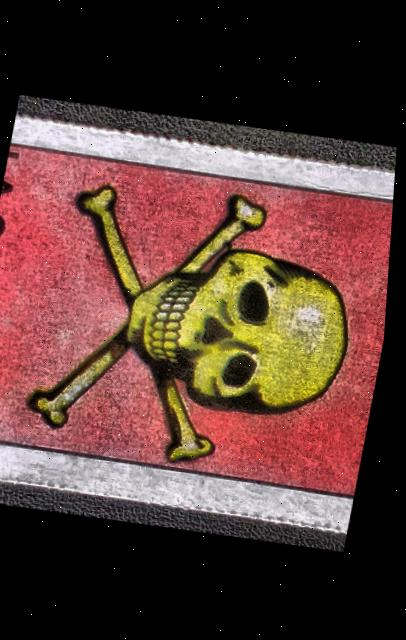La Calavera: (0, 131, 399, 513)
